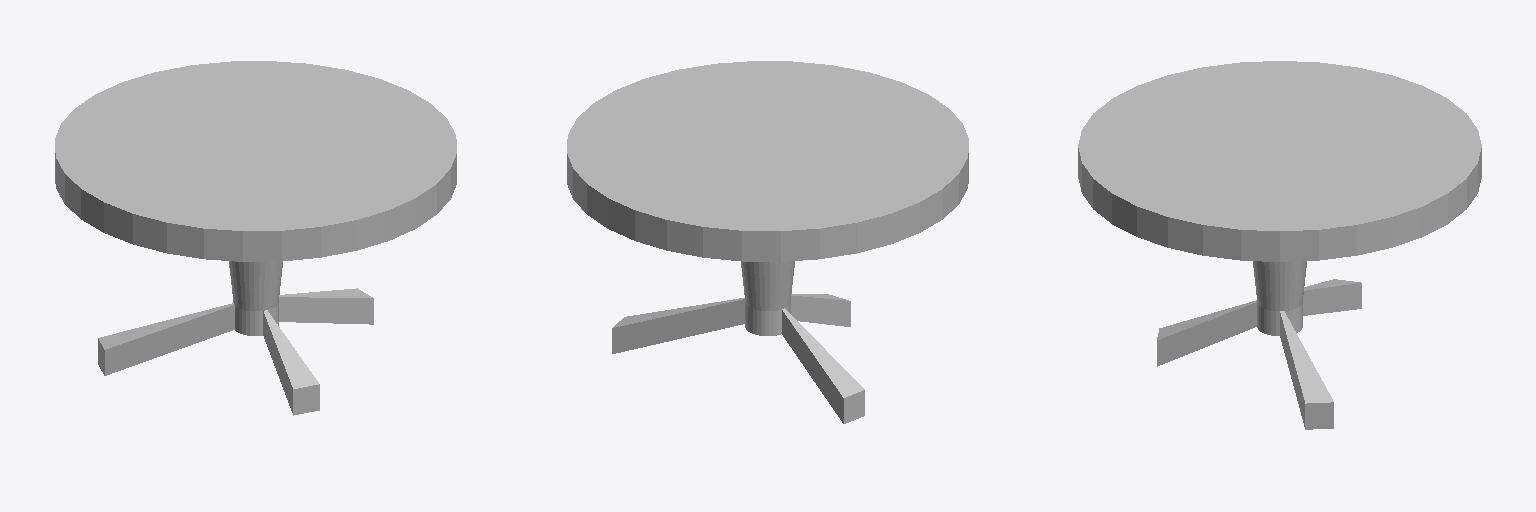
File: Table.obj
The picture shows the model from 3 angles: view 1: azimuth 30°, elevation 25°; view 2: azimuth 150°, elevation 25°; view 3: azimuth 270°, elevation 25°; orthographic projection.
Visible parts, largest first — view 1: Cylinder; view 2: Cylinder; view 3: Cylinder.
Part boxes in pixels (bbox=[...]): Cylinder: bbox=[55, 61, 456, 415]; Cylinder: bbox=[567, 61, 968, 423]; Cylinder: bbox=[1078, 61, 1481, 429].
Size of the model in its own units: 2.62 by 1.57 by 2.62.